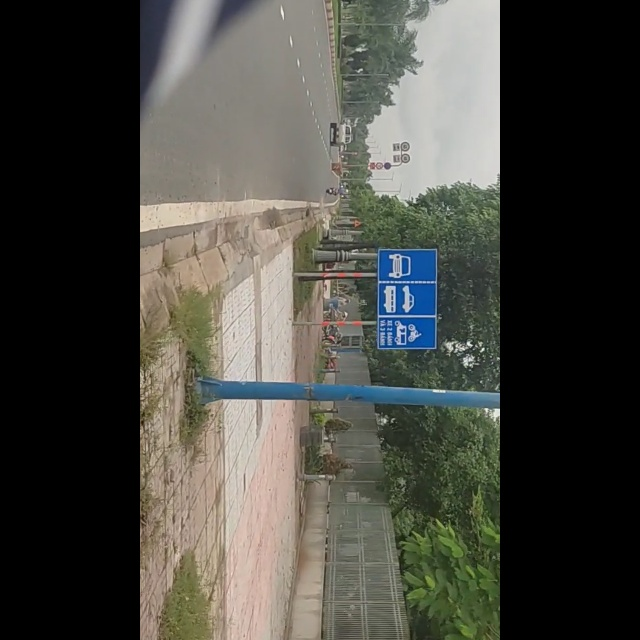bien_chi_dan: (421, 249, 533, 350)
